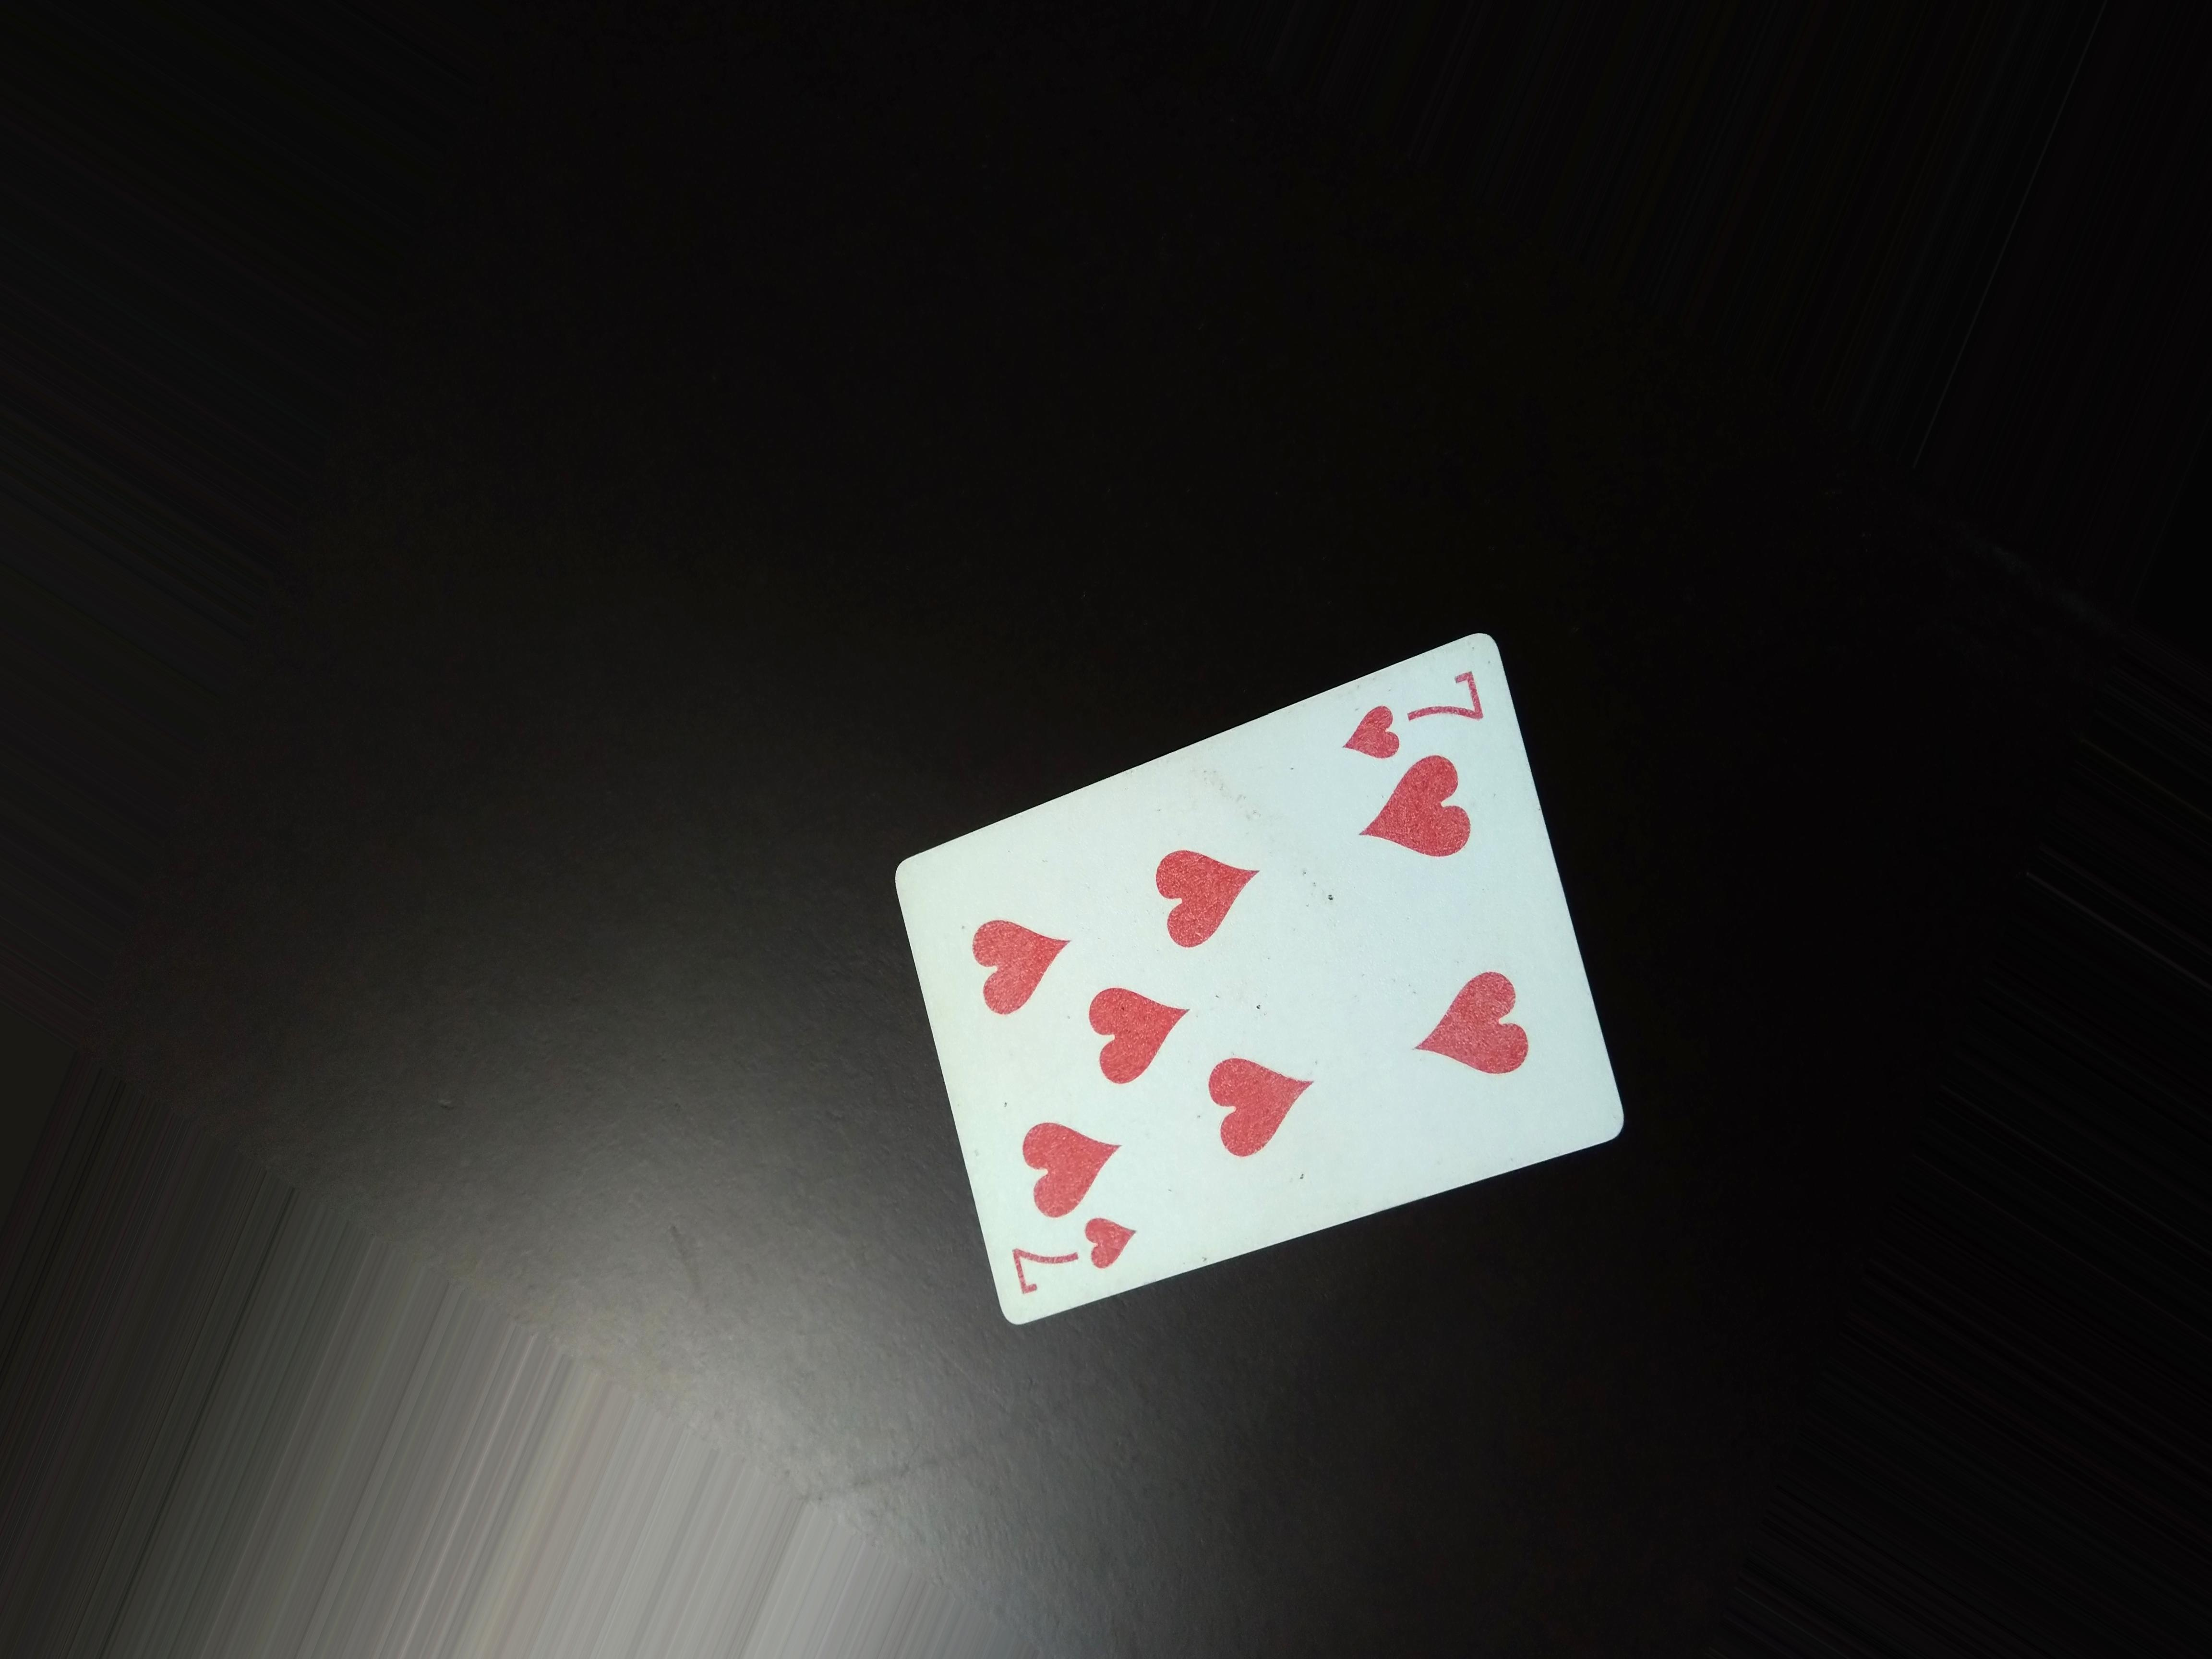7H: (1332, 650, 1512, 765)
